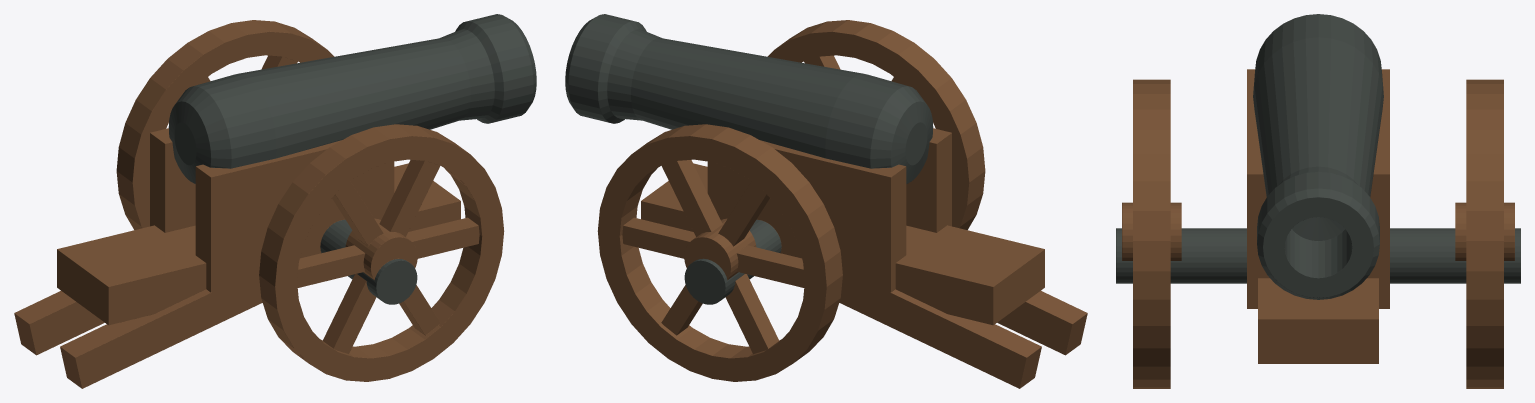
Rendered from NEW_RECOVERY_093_LOD0.fbx.
3 views of the same model, side by side, from view 1: azimuth 30°, elevation 25°; view 2: azimuth 150°, elevation 25°; view 3: azimuth 270°, elevation 25° (orthographic). The views are drawn at different scales.
Parts seen in each view (by area): view 1: NEW_RECOVERY_093_Static_cannon; view 2: NEW_RECOVERY_093_Static_cannon; view 3: NEW_RECOVERY_093_Static_cannon.
Part boxes in pixels (x1,y1,x2,y2): NEW_RECOVERY_093_Static_cannon: (14, 14, 536, 388); NEW_RECOVERY_093_Static_cannon: (565, 14, 1087, 388); NEW_RECOVERY_093_Static_cannon: (1116, 14, 1520, 388).
Bounding box in the file's own units: 319 × 204 × 168.
